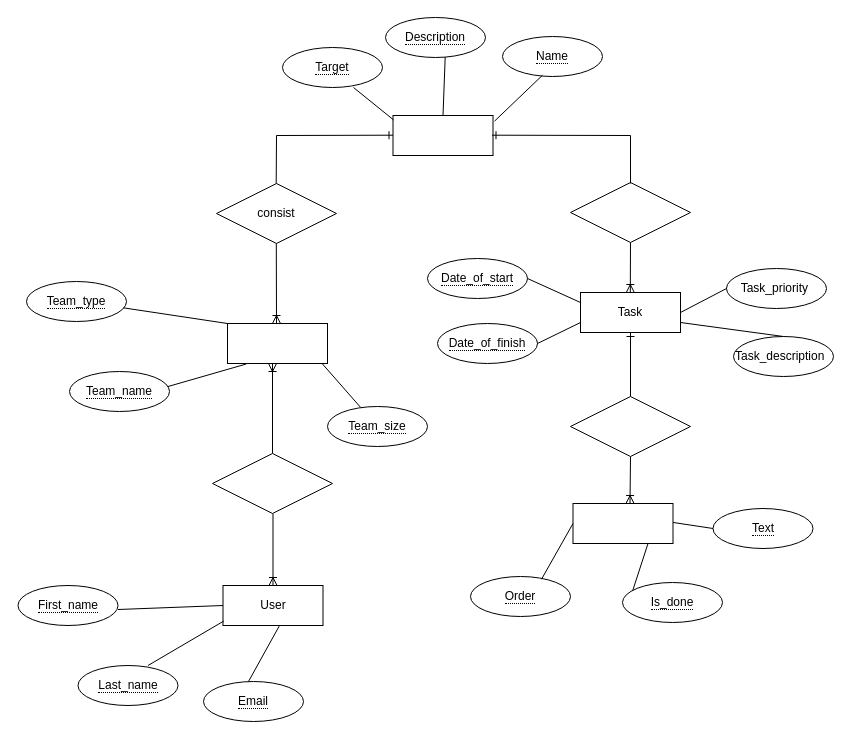
The diagram is 851 pixels wide and 739 high, and some of its shapes have lost their labels. Here are the shapes that lost their labels. From the top down, the centre of each, then its label:
At pixel 442 135: "Project".
At pixel 630 212: "include".
At pixel 277 343: "Team".
At pixel 630 426: "contain".
At pixel 272 483: "take part".
At pixel 622 523: "CheckListItem".
